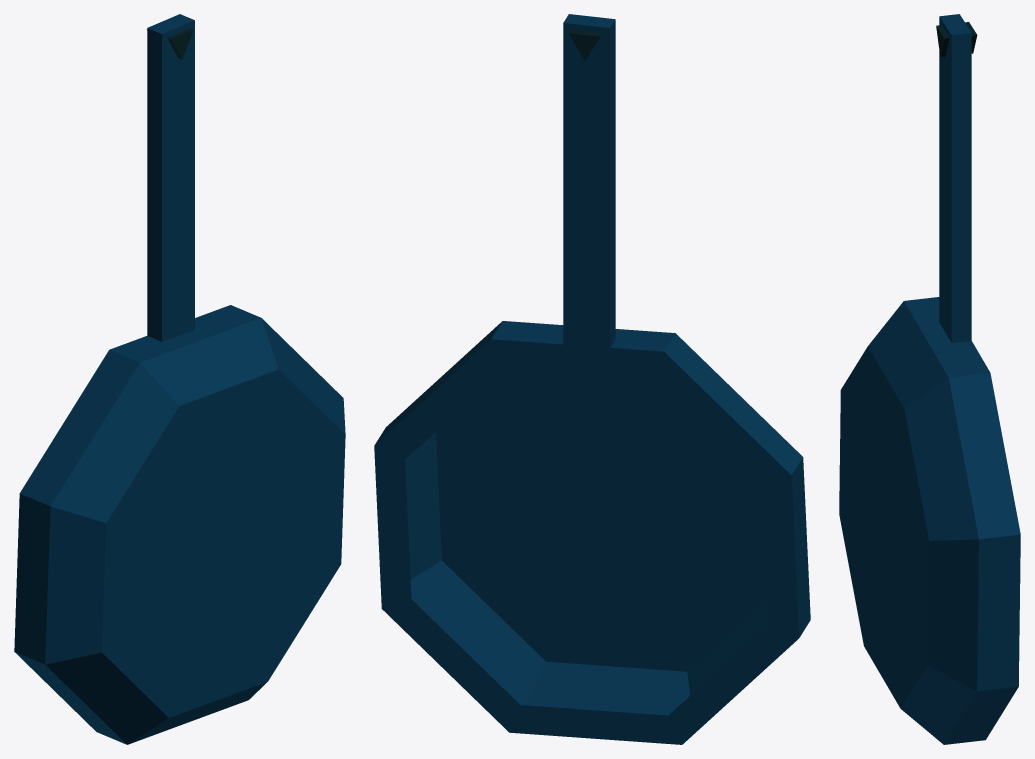
File: KITCHEN INVENTORY 1.fbx
3 renders of one model, left to right at view 1: azimuth 30°, elevation 25°; view 2: azimuth 150°, elevation 25°; view 3: azimuth 270°, elevation 25°, orthographic. The views are drawn at different scales.
Visible parts, largest first — view 1: KITCHEN_INVENTORY_1; view 2: KITCHEN_INVENTORY_1; view 3: KITCHEN_INVENTORY_1.
Boxes of the visible parts, bbox=[...] form: KITCHEN_INVENTORY_1: bbox=[14, 14, 345, 744]; KITCHEN_INVENTORY_1: bbox=[374, 14, 810, 744]; KITCHEN_INVENTORY_1: bbox=[839, 14, 1020, 744].
Bounding box in the file's own units: 59.85 × 108 × 26.02.
Materials: 1 (1 with a texture image).
